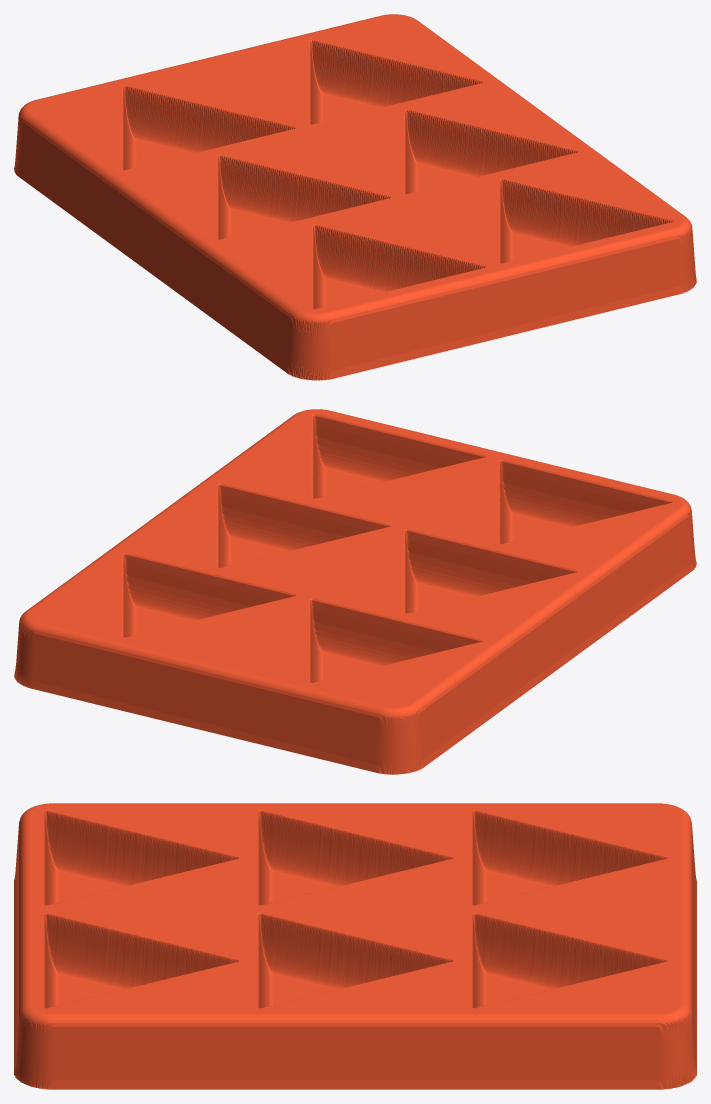
The model's file is mold.glb.
3 views of the same model, one above another, from view 1: azimuth 30°, elevation 25°; view 2: azimuth 150°, elevation 25°; view 3: azimuth 270°, elevation 25° (orthographic). The views are drawn at different scales.
Visible parts, largest first — view 1: geometry_0; view 2: geometry_0; view 3: geometry_0.
Boxes of the visible parts, x1,y1,x2,y2 form: geometry_0: [14, 14, 696, 380]; geometry_0: [14, 409, 696, 774]; geometry_0: [14, 803, 696, 1089].
Size of the model in its own units: 0.1211 by 0.0175 by 0.1568.
